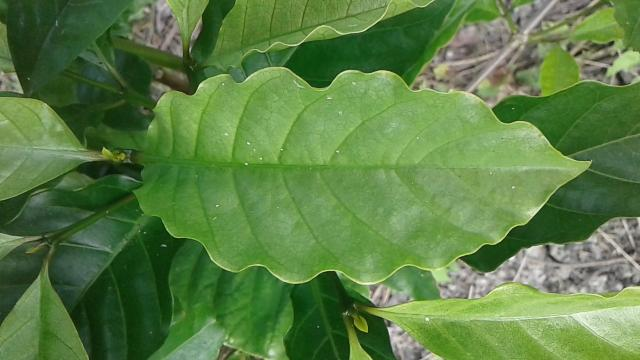healthy: (134, 67, 586, 286)
